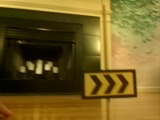right: (80, 70, 136, 96)
